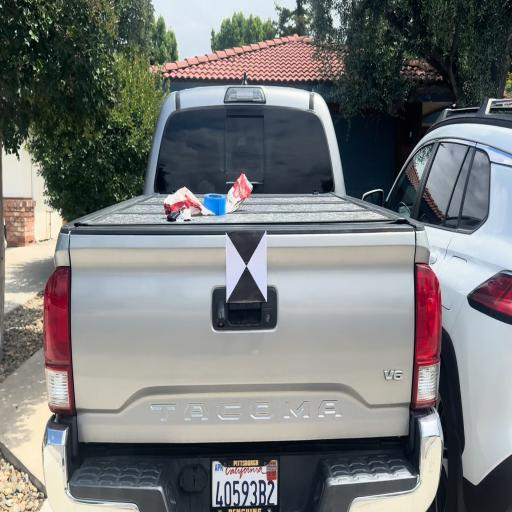target: (226, 232, 267, 302)
